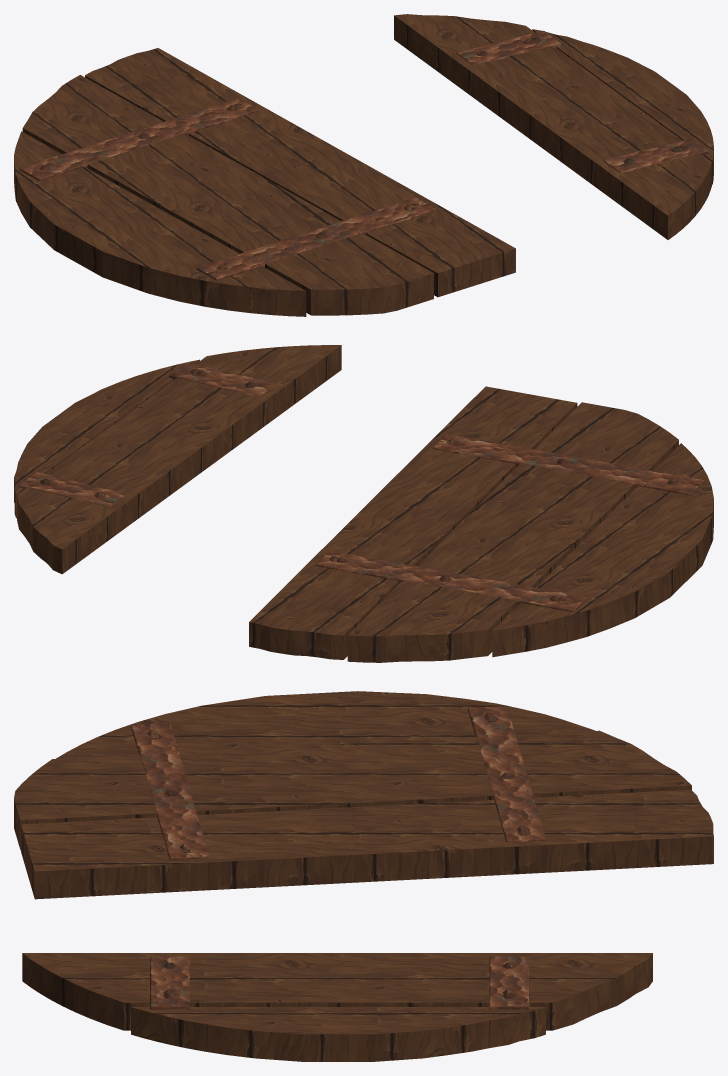
File: door_broken__cut_stone.glb
3 renders of one model, top to bottom at view 1: azimuth 30°, elevation 25°; view 2: azimuth 150°, elevation 25°; view 3: azimuth 270°, elevation 25°, orthographic. The views are drawn at different scales.
Visible parts, largest first — view 1: model; view 2: model; view 3: model.
Boxes of the visible parts, box(x1,y1,x2,y2) form: model: box(14, 14, 713, 316); model: box(14, 345, 713, 662); model: box(14, 691, 713, 1061).
Bounding box in the file's own units: 1.72 × 0.0891 × 1.49.
3 materials, 3 textured.
